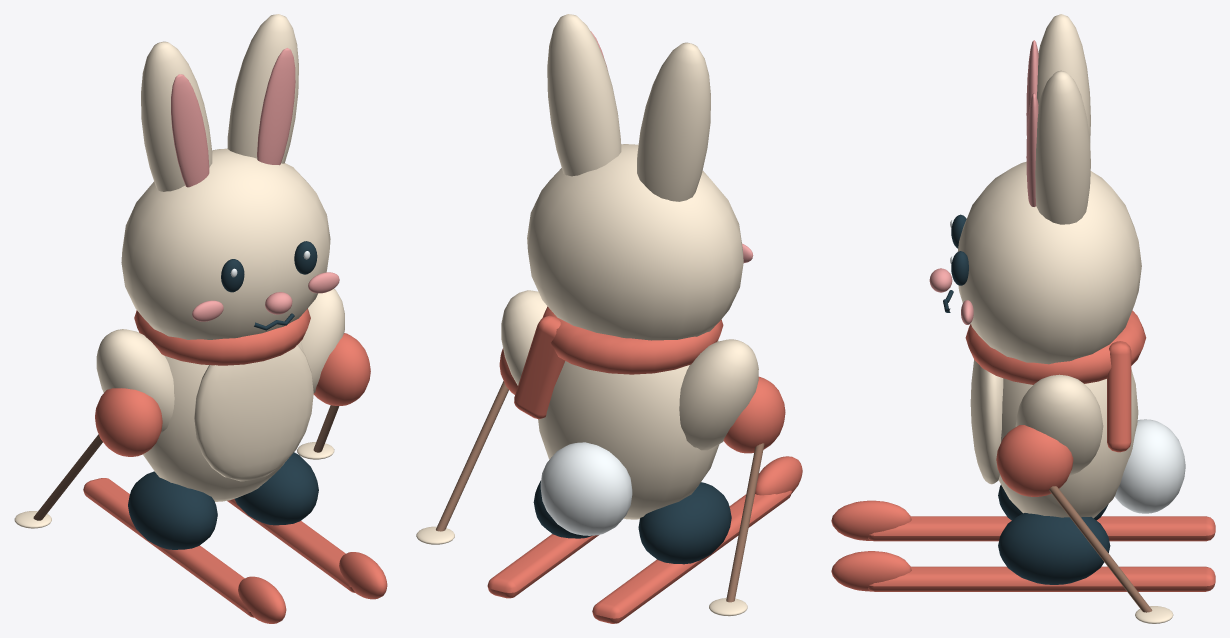
The model's file is bunny.glb.
3 views of the same model, side by side, from view 1: azimuth 30°, elevation 25°; view 2: azimuth 150°, elevation 25°; view 3: azimuth 270°, elevation 25° (orthographic). The views are drawn at different scales.
Parts seen in each view (by area): view 1: Head.001, Soft bib.001, Round tummy.001, Long bunny ear, Long bunny ear.001, Boot.002, Sleeve.002, Cozy scarf.001, Mitten.002, Candy-colored ski.002, Boot.003, Pink ear.001 (+11 smaller); view 2: Head.001, Round tummy.001, Long bunny ear, Long bunny ear.001, Cotton tail, Sleeve.002, Cozy scarf.001, Boot.002, Candy-colored ski.002, Scarf tail.001, Mitten.002, Candy-colored ski.003 (+7 smaller); view 3: Head.001, Long bunny ear.001, Candy-colored ski.003, Boot.003, Round tummy.001, Candy-colored ski.002, Sleeve.003, Cotton tail, Cozy scarf.001, Mitten.003, Soft bib.001, Long bunny ear (+6 smaller).
Boxes of the visible parts, bbox=[...] form: Head.001: bbox=[121, 148, 330, 339]; Soft bib.001: bbox=[194, 345, 313, 481]; Round tummy.001: bbox=[143, 341, 304, 501]; Long bunny ear: bbox=[141, 41, 212, 191]; Long bunny ear.001: bbox=[227, 14, 298, 163]; Boot.002: bbox=[128, 471, 217, 549]; Sleeve.002: bbox=[96, 329, 174, 433]; Cozy scarf.001: bbox=[134, 308, 310, 365]; Mitten.002: bbox=[95, 388, 162, 456]; Candy-colored ski.002: bbox=[83, 478, 253, 617]; Boot.003: bbox=[234, 452, 318, 525]; Pink ear.001: bbox=[257, 48, 295, 165]; Head.001: bbox=[527, 144, 743, 340]; Round tummy.001: bbox=[538, 361, 719, 519]; Long bunny ear: bbox=[637, 42, 710, 201]; Long bunny ear.001: bbox=[547, 14, 621, 176]; Cotton tail: bbox=[540, 442, 632, 535]; Sleeve.002: bbox=[679, 339, 758, 450]; Cozy scarf.001: bbox=[542, 306, 723, 374]; Boot.002: bbox=[638, 482, 731, 564]; Candy-colored ski.002: bbox=[592, 490, 791, 623]; Scarf tail.001: bbox=[514, 315, 564, 419]; Mitten.002: bbox=[723, 376, 785, 453]; Candy-colored ski.003: bbox=[487, 534, 598, 598]; Head.001: bbox=[957, 161, 1141, 364]; Long bunny ear.001: bbox=[1035, 70, 1090, 224]; Candy-colored ski.003: bbox=[868, 566, 1215, 591]; Boot.003: bbox=[998, 513, 1110, 584]; Round tummy.001: bbox=[998, 369, 1138, 518]; Candy-colored ski.002: bbox=[868, 516, 1215, 541]; Sleeve.003: bbox=[1015, 374, 1103, 475]; Cotton tail: bbox=[1115, 419, 1185, 513]; Cozy scarf.001: bbox=[965, 310, 1146, 384]; Mitten.003: bbox=[996, 425, 1073, 496]; Soft bib.001: bbox=[970, 359, 1003, 484]; Long bunny ear: bbox=[1037, 14, 1090, 142].
Size of the model in its own units: 2.12 by 3.28 by 2.19.
